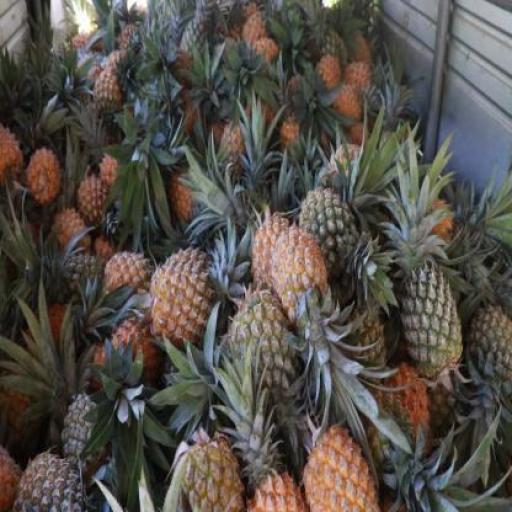------------------------------: (232, 291, 300, 391), (298, 190, 362, 288), (178, 444, 252, 511), (0, 376, 50, 451), (94, 68, 126, 126)
Pineapple - v8 v1: (303, 422, 383, 511), (273, 226, 333, 328), (152, 248, 214, 343), (252, 216, 301, 305), (112, 316, 160, 395), (106, 249, 148, 306), (76, 171, 114, 225), (27, 146, 60, 206), (0, 124, 25, 190)
